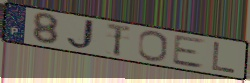8: (31, 11, 61, 46)
E: (171, 35, 208, 71)
J: (66, 18, 100, 51)
L: (210, 41, 238, 75)
O: (137, 30, 169, 64)
T: (105, 22, 133, 58)
